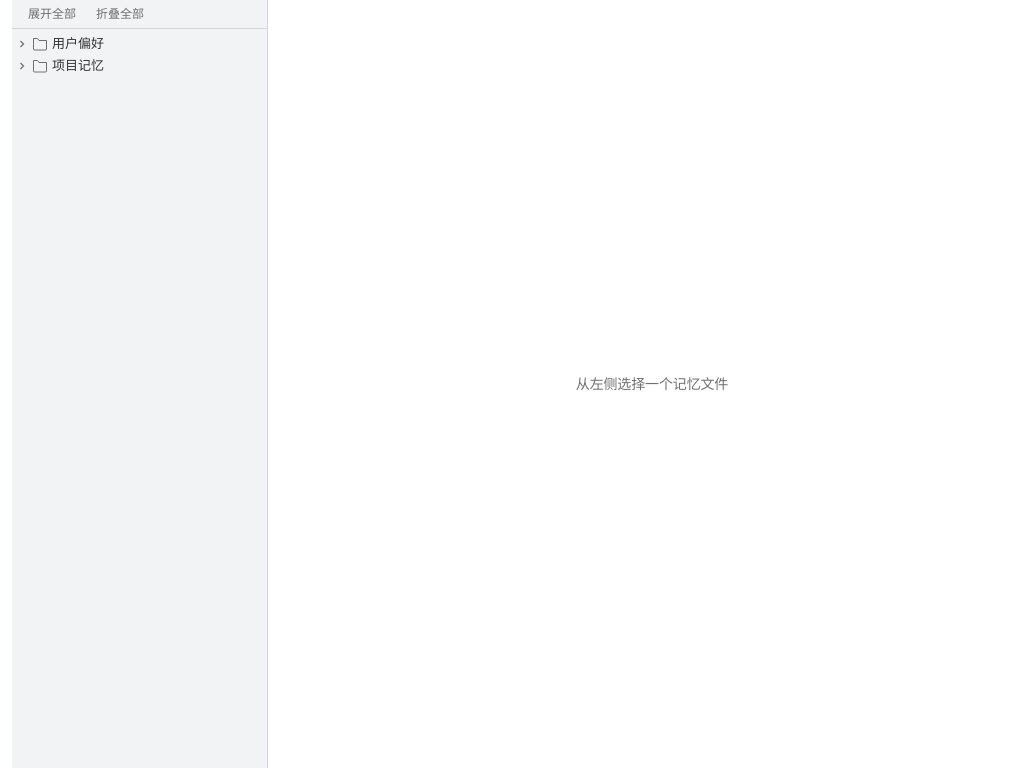
MemoryManagerDialog › renders tree with semantic labels
Expected: the text "用户偏好" is shown, [52, 35, 104, 52]
Expected: the text "跨项目偏好" is not shown
Click the button "展开全部": (52, 14) [20, 4, 84, 24]
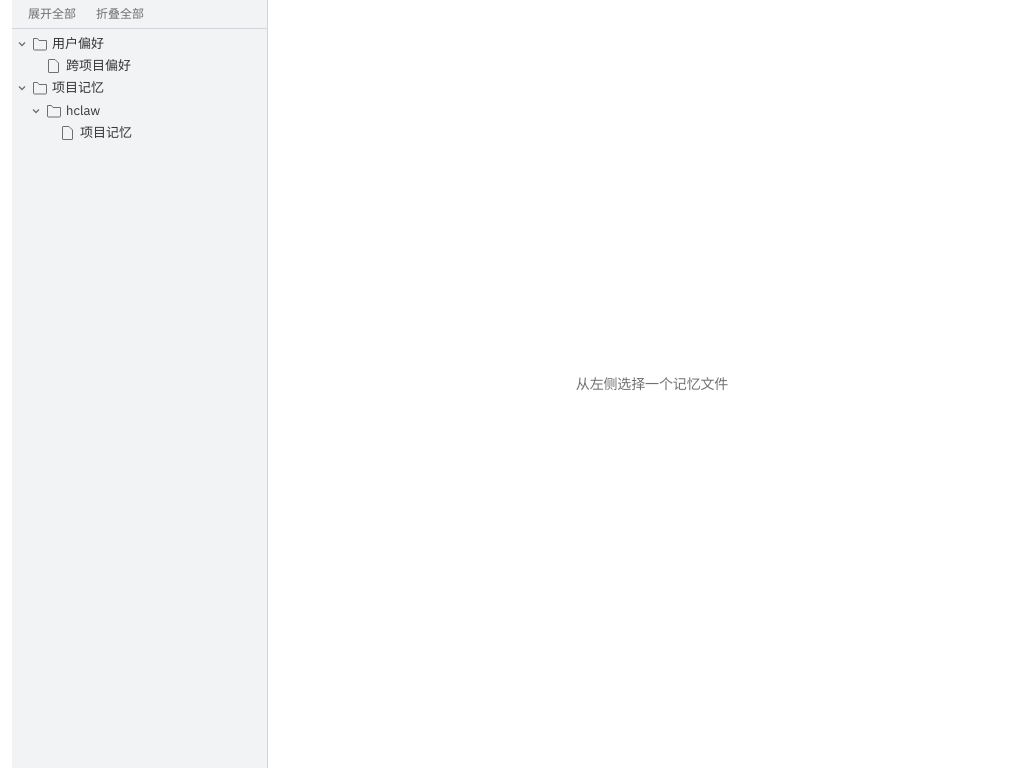
Expected: the text "跨项目偏好" is shown, [66, 57, 131, 74]
Expected: the text "hclaw" is shown, [66, 102, 100, 119]
